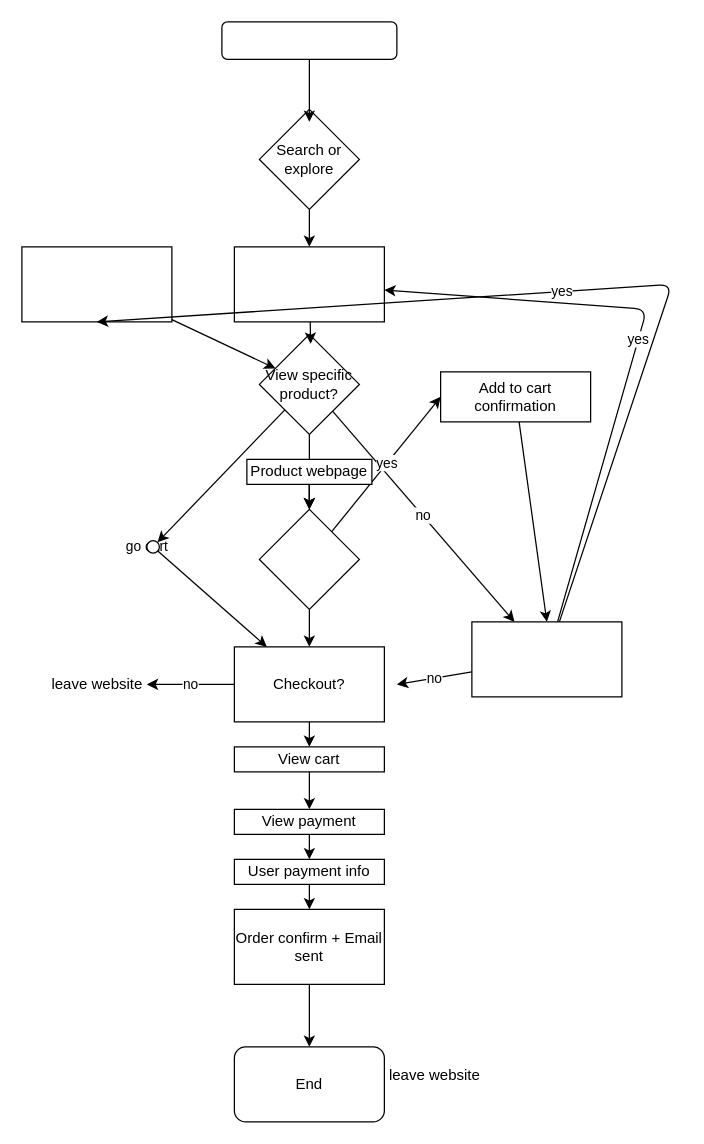
The diagram is 704 pixels wide and 1144 high, and some of its shapes have lost their labels. The centre of each missing label's shape, as x and y in pixels:
"Add to cart?" goes at pixel 308 558.
"Browse home page products" goes at pixel 308 284.
"Continue shopping?" goes at pixel 546 659.
"Start" goes at pixel 309 40.
"User inputs search query" goes at pixel 96 284.
